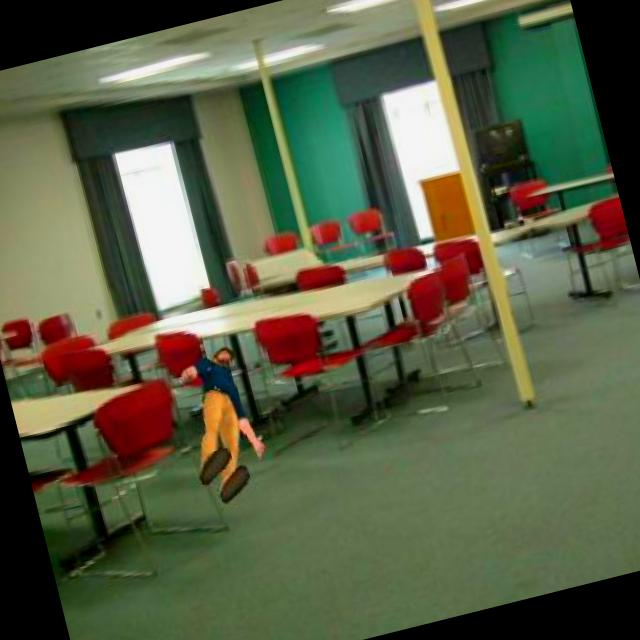Person: (166, 337, 282, 509)
